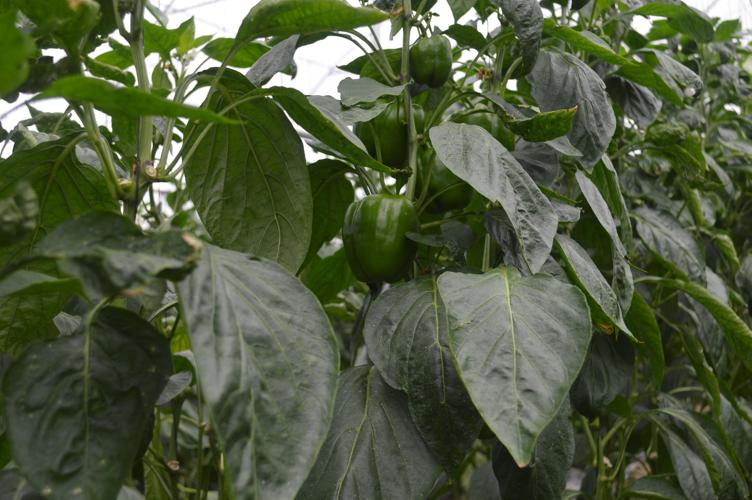BellPepper: (342, 197, 420, 280), (351, 103, 426, 164), (412, 154, 470, 210), (457, 105, 520, 148), (405, 34, 454, 84)
